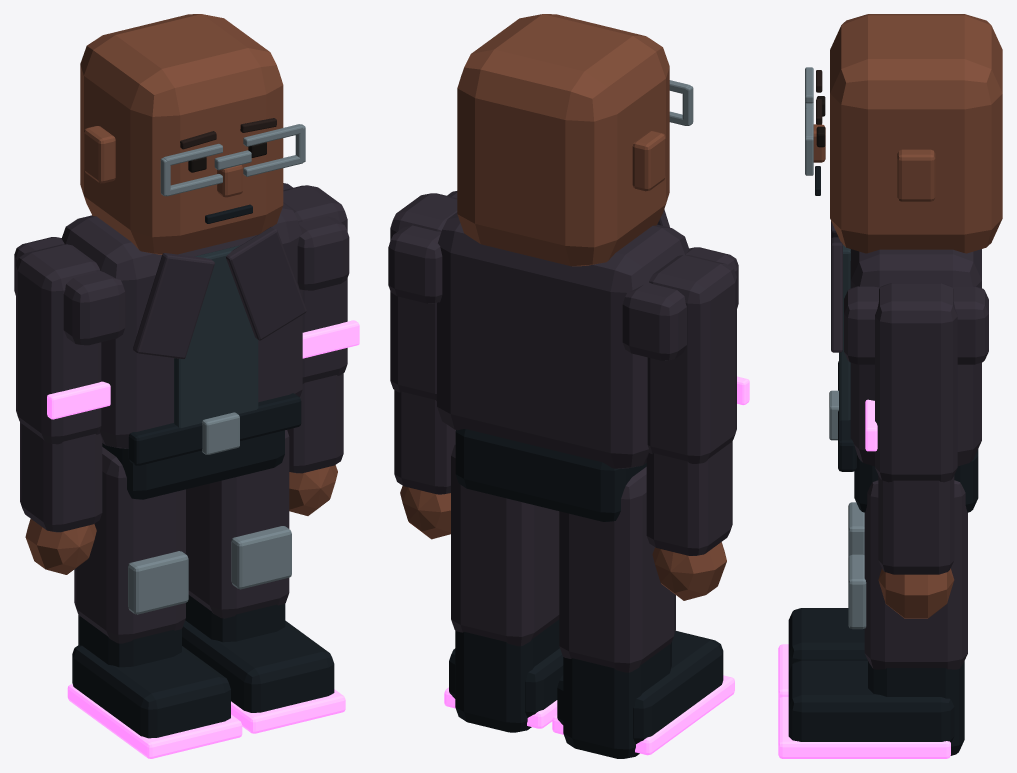
Rendered from agent-vision.glb.
3 renders of one model, left to right at view 1: azimuth 30°, elevation 25°; view 2: azimuth 150°, elevation 25°; view 3: azimuth 270°, elevation 25°, orthographic. The views are drawn at different scales.
Parts seen in each view (by area): view 1: head_mesh, torso_mesh, upper_arm_-1, thigh_mesh_-1, thigh_mesh_1, boot_-1, shirt_panel, boot_1, forearm_mesh_-1, waist_mesh, lapel_-1, lapel_1 (+22 smaller); view 2: head_mesh, torso_mesh, thigh_mesh_-1, thigh_mesh_1, upper_arm_-1, waist_mesh, forearm_mesh_-1, shin_mesh_-1, shin_mesh_1, upper_arm_1, boot_-1, forearm_mesh_1 (+8 smaller); view 3: head_mesh, upper_arm_1, boot_1, thigh_mesh_1, torso_mesh, forearm_mesh_1, shoulder_pad_1, boot_-1, sole_1, shin_mesh_1, hand_1, ear_1 (+9 smaller).
Part boxes in pixels (box(x1,y1,x2,y2)): head_mesh: box(80, 14, 283, 254); torso_mesh: box(61, 203, 302, 448); upper_arm_-1: box(16, 244, 101, 444); thigh_mesh_-1: box(74, 447, 185, 643); thigh_mesh_1: box(186, 430, 289, 618); boot_-1: box(72, 644, 230, 738); shirt_panel: box(174, 245, 258, 427); boot_1: box(182, 620, 334, 712); forearm_mesh_-1: box(20, 422, 102, 532); waist_mesh: box(102, 430, 284, 499); lapel_-1: box(133, 253, 214, 359); lapel_1: box(226, 226, 306, 340); head_mesh: box(457, 14, 669, 266); torso_mesh: box(437, 212, 688, 468); thigh_mesh_-1: box(559, 467, 675, 672); thigh_mesh_1: box(451, 443, 559, 646); upper_arm_-1: box(647, 255, 736, 463); waist_mesh: box(455, 429, 646, 521); forearm_mesh_-1: box(646, 441, 732, 555); shin_mesh_-1: box(563, 642, 671, 758); shin_mesh_1: box(455, 619, 559, 732); upper_arm_1: box(390, 193, 457, 400); boot_-1: box(557, 631, 723, 743); forearm_mesh_1: box(394, 390, 455, 494); head_mesh: box(830, 14, 1002, 253); upper_arm_1: box(875, 283, 957, 482); boot_1: box(788, 660, 954, 742); thigh_mesh_1: box(864, 480, 967, 669); torso_mesh: box(850, 249, 981, 466); forearm_mesh_1: box(878, 475, 954, 574); shoulder_pad_1: box(844, 286, 988, 364); boot_-1: box(788, 608, 867, 671); sole_1: box(778, 697, 950, 758); shin_mesh_1: box(868, 661, 964, 755); hand_1: box(878, 568, 954, 618); ear_1: box(897, 149, 935, 201).
Bounding box in the file's own units: 1.07 × 2.18 × 0.65.
